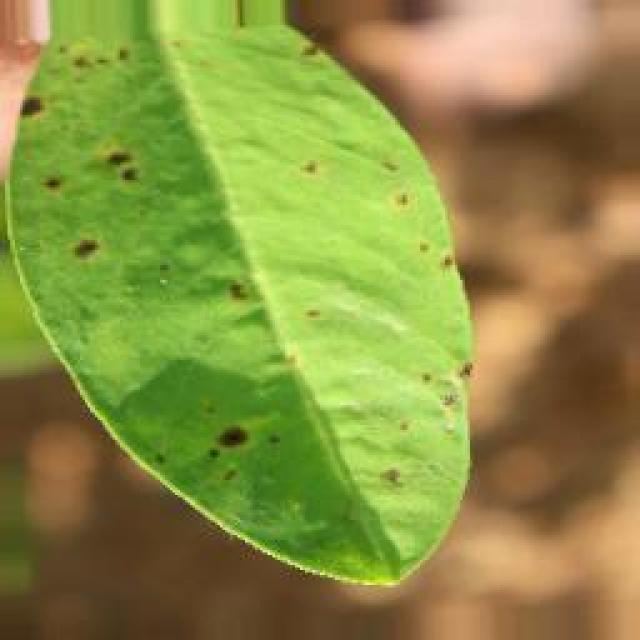Sigatoka: (0, 136, 127, 300), (175, 355, 292, 473), (363, 152, 450, 274), (407, 341, 495, 439), (235, 14, 338, 94), (73, 112, 162, 195), (0, 52, 80, 140), (181, 262, 272, 333), (54, 34, 161, 88), (275, 279, 353, 347), (342, 417, 414, 481), (292, 139, 349, 204), (162, 18, 210, 68)
